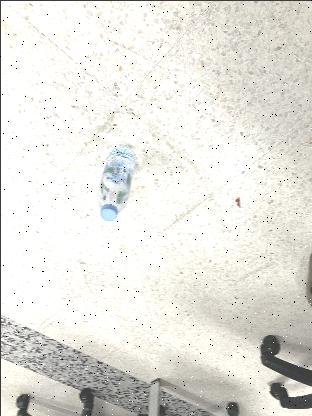Plastic Bottle: (96, 142, 136, 220)
